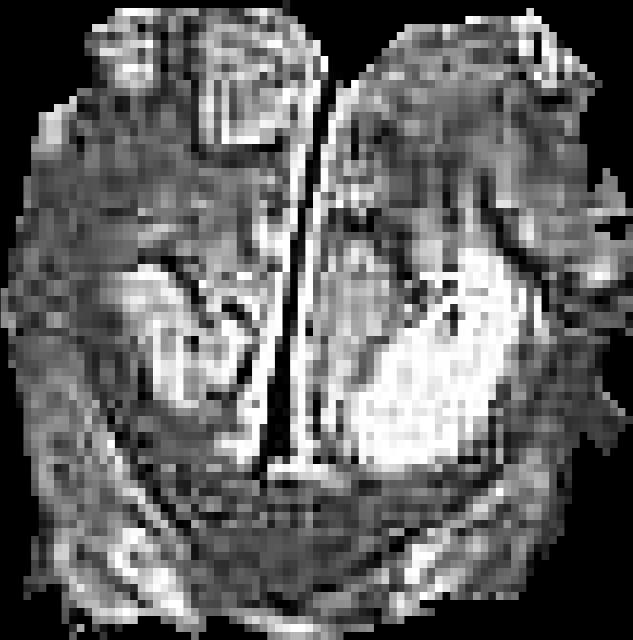tumor_moderate_chance: (1, 0, 633, 640)
